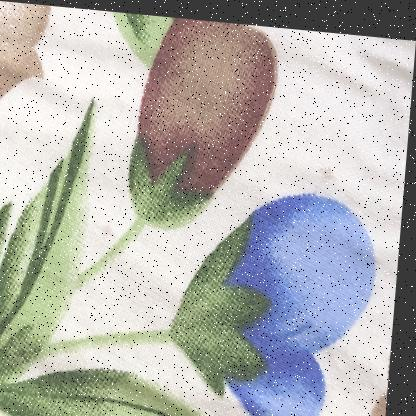spot: (314, 151, 341, 181), (99, 208, 121, 243)
